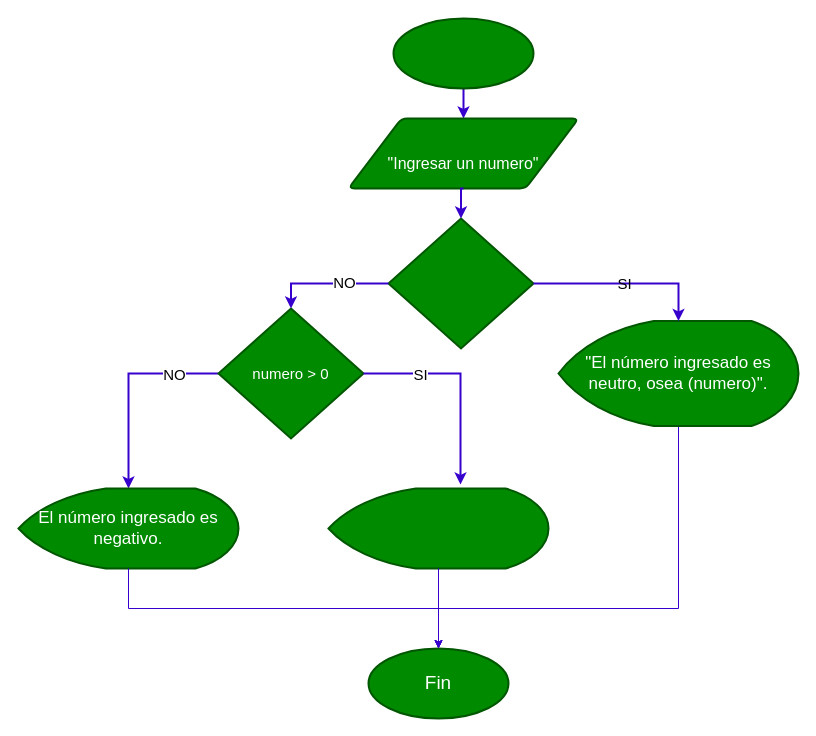
This 816x736 diagram has some shape labels left out. Each missing label, with the centre of its shape:
"El número ingresado es positivo." goes at point (438, 528).
"Inicio" goes at point (463, 53).
"numero == 0" goes at point (460, 283).
